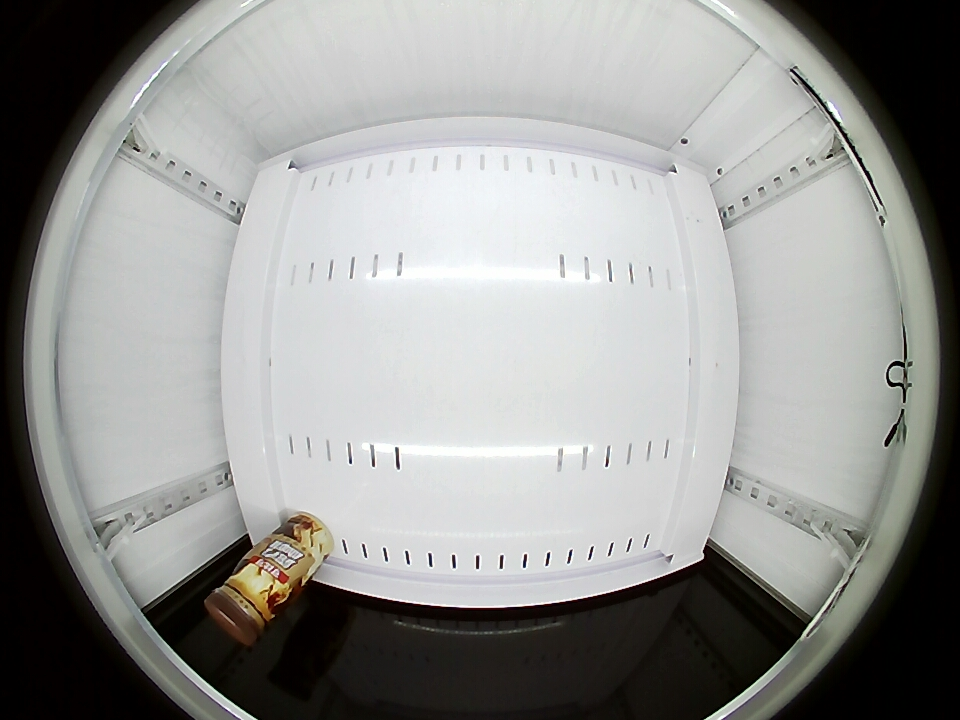lujikafei: (204, 558, 291, 644)
